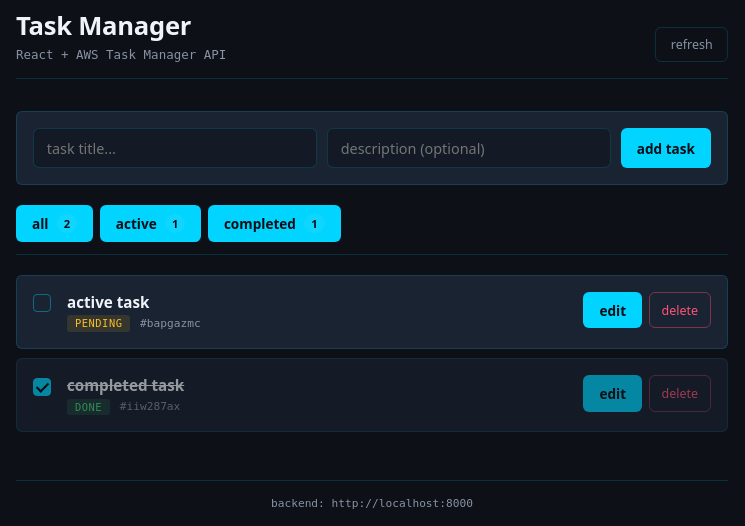
Test: App: filtering tasks › shows only active tasks when 'active' filter is selected
Expected: the text "active task" is shown, [67,292,150,312]
What coordinates should you click on to do the following:
click the button "active 1"
I would click on:
 (151, 224)
Its box is [100,205,202,242].
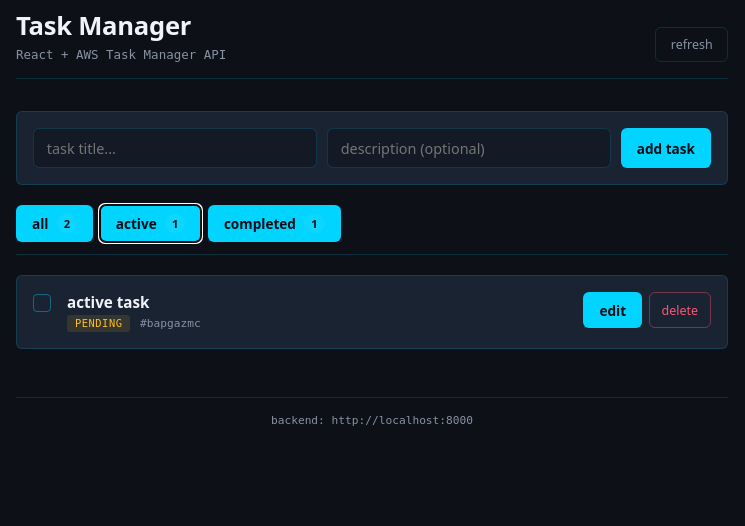
Expected: the text "active task" is shown, [67,292,150,312]
Result: the text "completed task" is gone
